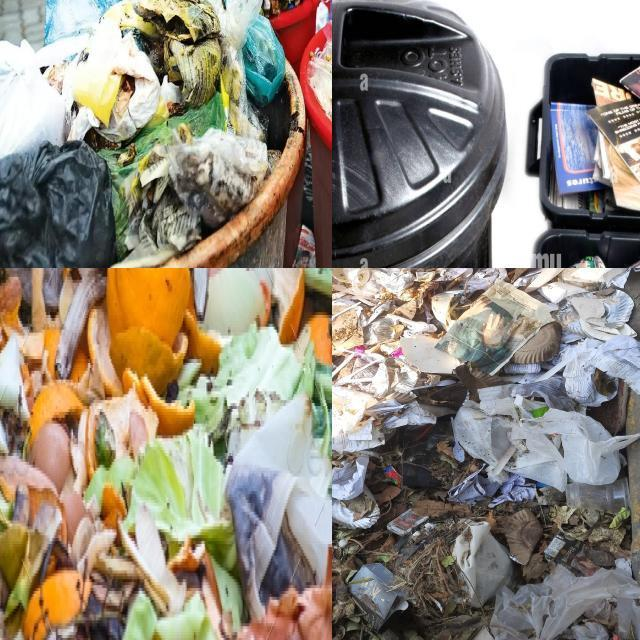Cig_pack: (388, 509, 429, 536)
Disposable: (553, 287, 635, 341), (566, 477, 629, 515), (511, 322, 562, 364), (504, 509, 541, 564), (332, 487, 380, 529), (332, 268, 399, 296), (332, 300, 365, 355), (332, 301, 365, 355), (386, 357, 418, 394), (524, 268, 566, 293), (386, 314, 436, 334), (429, 384, 468, 405), (363, 318, 393, 345), (332, 353, 356, 379), (350, 352, 386, 362), (453, 436, 464, 463), (376, 268, 393, 276), (451, 416, 455, 436)
Garbage: (0, 268, 332, 640), (332, 268, 640, 640), (0, 0, 303, 268)
Plastic: (225, 392, 332, 618), (489, 445, 517, 477)
Plastic_Bag: (98, 92, 226, 260), (0, 142, 116, 268), (491, 560, 640, 640), (168, 128, 268, 228), (519, 409, 640, 485), (222, 0, 263, 139), (199, 0, 263, 60), (243, 16, 285, 105), (401, 418, 453, 488), (45, 0, 121, 43), (181, 92, 226, 138), (316, 22, 332, 66), (167, 116, 180, 128)
Plastic_wraper: (384, 467, 403, 487)
Tetrapack: (350, 563, 408, 633), (545, 532, 584, 577)
Thermocol: (453, 384, 567, 491), (399, 385, 433, 392), (435, 380, 457, 386)
